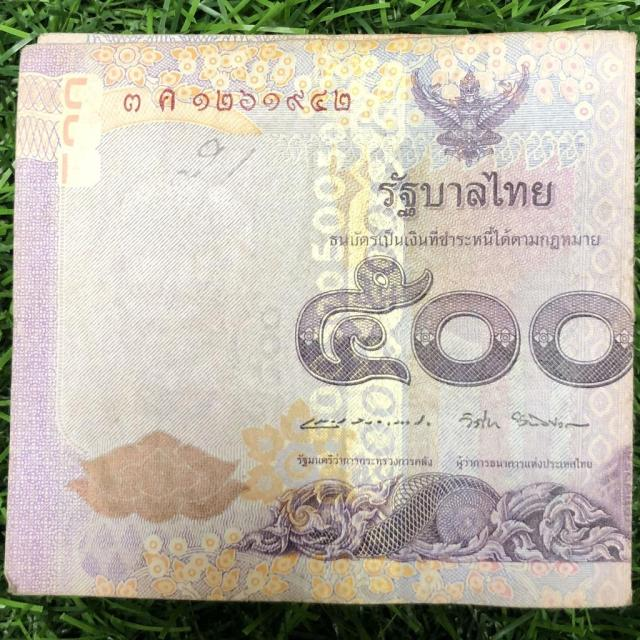THAI500: (6, 31, 635, 608)
